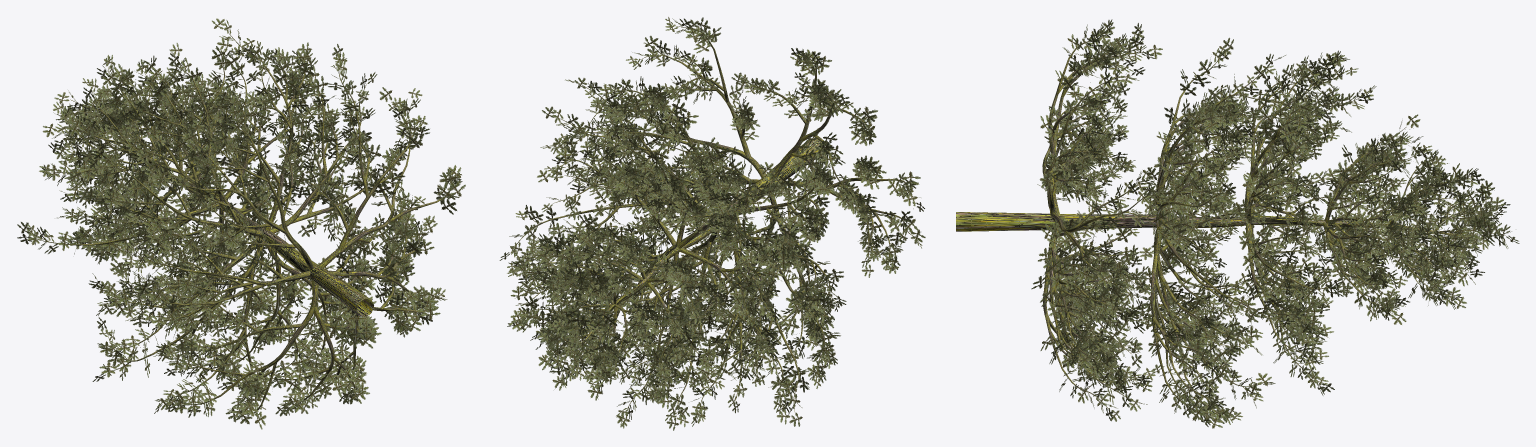
The model's file is Tree_drzewo.fbx.
3 views of the same model, side by side, from view 1: azimuth 30°, elevation 25°; view 2: azimuth 150°, elevation 25°; view 3: azimuth 270°, elevation 25° (orthographic). The views are drawn at different scales.
Parts seen in each view (by area): view 1: leaves, tree; view 2: leaves, tree; view 3: leaves, tree.
Part boxes in pixels (x1,y1,x2,y2): leaves: [17, 18, 465, 429]; tree: [34, 30, 451, 413]; leaves: [499, 17, 925, 430]; tree: [510, 25, 915, 415]; leaves: [1031, 19, 1519, 428]; tree: [956, 33, 1505, 415].
Size of the model in its own units: 414 by 405 by 527.
